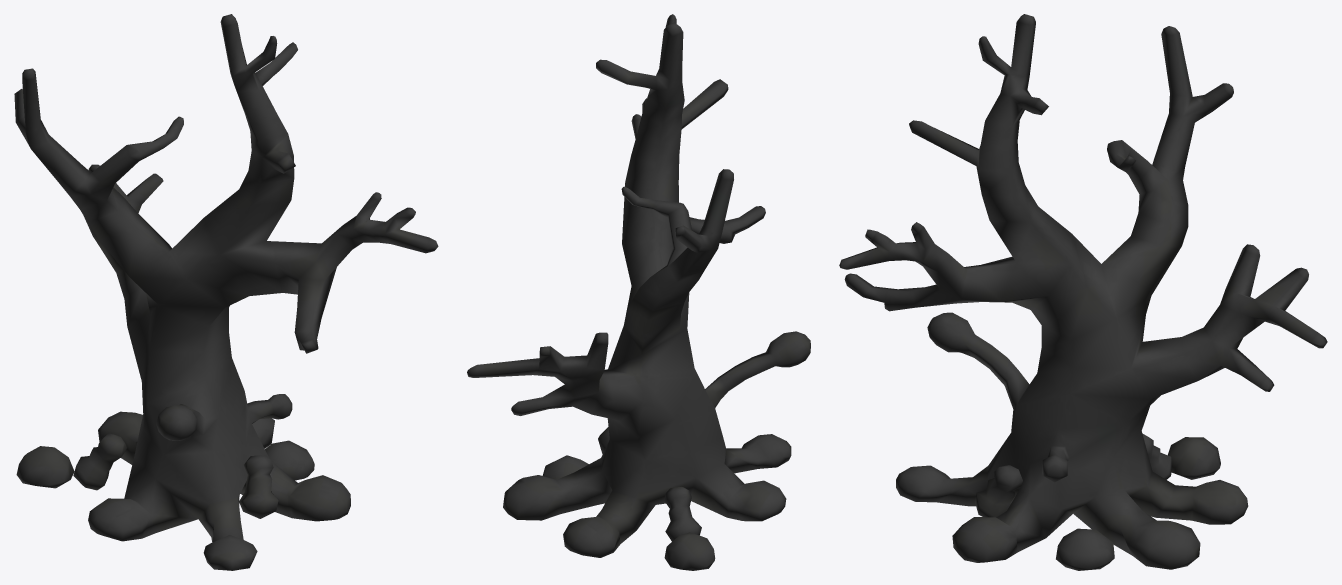
The model's file is tree.glb.
3 renders of one model, left to right at view 1: azimuth 30°, elevation 25°; view 2: azimuth 150°, elevation 25°; view 3: azimuth 270°, elevation 25°, orthographic. The views are drawn at different scales.
Visible parts, largest first — view 1: tripo_node_c70a2372-ad90-43c7-a3ae-4aafe2b528cc; view 2: tripo_node_c70a2372-ad90-43c7-a3ae-4aafe2b528cc; view 3: tripo_node_c70a2372-ad90-43c7-a3ae-4aafe2b528cc.
Boxes of the visible parts, x1,y1,x2,y2 form: tripo_node_c70a2372-ad90-43c7-a3ae-4aafe2b528cc: (14, 14, 438, 570); tripo_node_c70a2372-ad90-43c7-a3ae-4aafe2b528cc: (467, 14, 810, 570); tripo_node_c70a2372-ad90-43c7-a3ae-4aafe2b528cc: (839, 14, 1327, 570).
Size of the model in its own units: 0.5332 by 0.998 by 0.877.
Materials: 1 (1 with a texture image).
